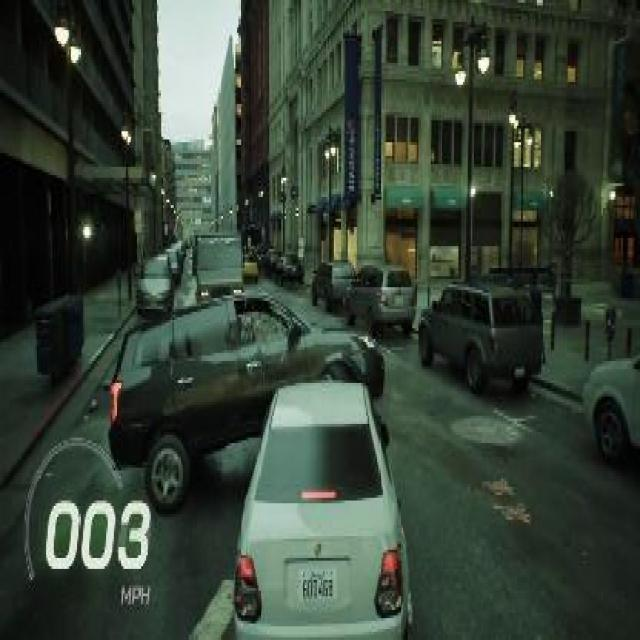accident: (100, 284, 420, 638)
